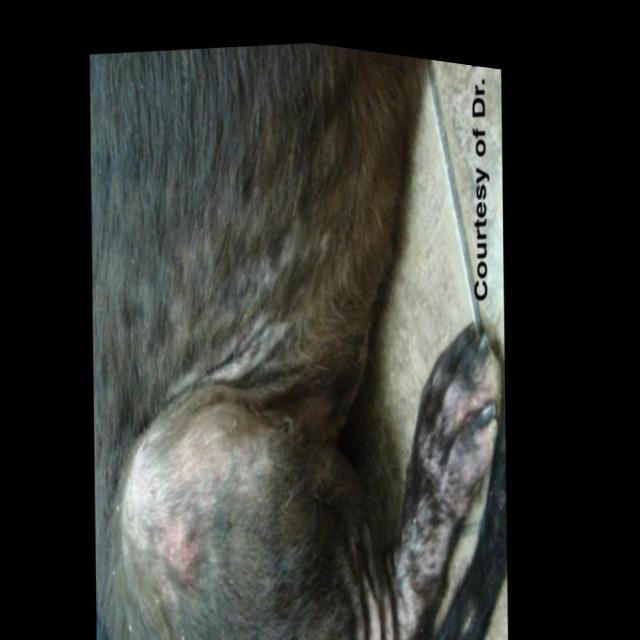mange: (138, 452, 215, 594), (224, 270, 293, 380)
